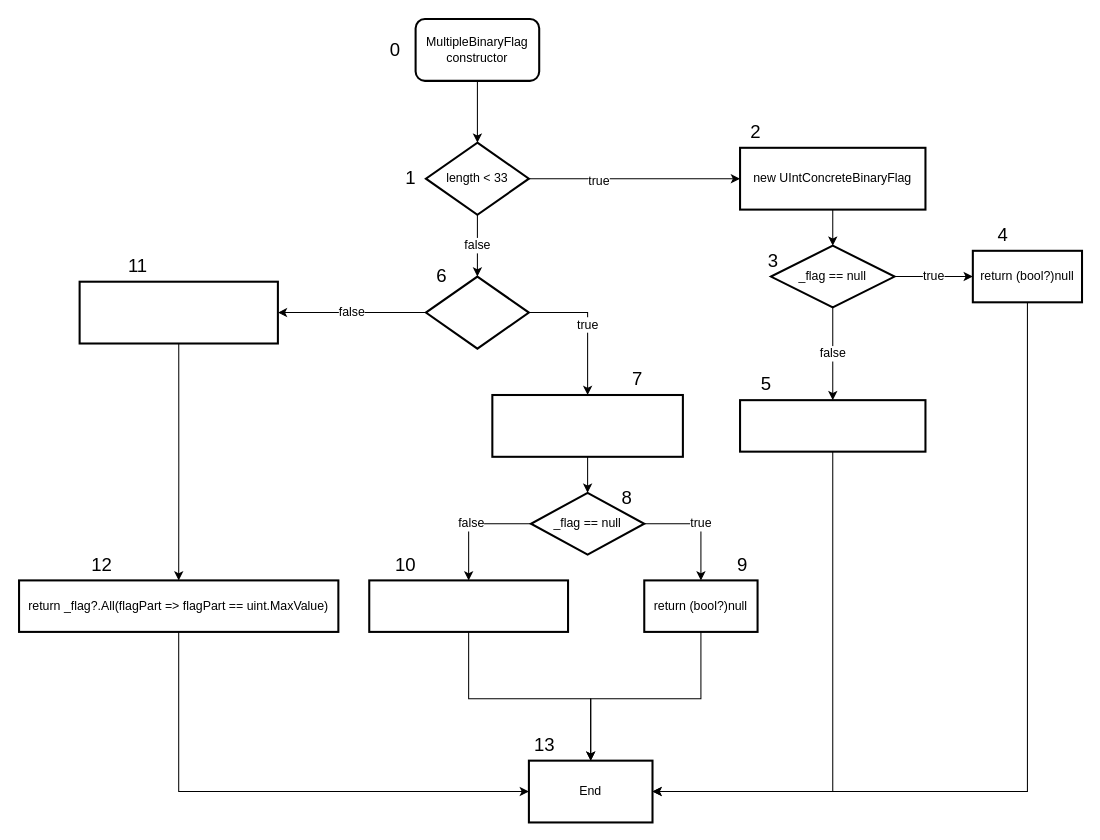
The diagram is 1100 pixels wide and 840 high, and some of its shapes have lost their labels. Each missing label, with the box of its shape:
length < 65: (424, 275, 529, 349)
new UIntArrayConcreteBinaryFlag: (78, 280, 278, 344)
new ULongConcreteBinaryFlag: (491, 393, 683, 457)
return _flag == uint.MaxValue: (739, 399, 926, 452)
return _flag == ulong.MaxValue: (368, 579, 569, 632)
